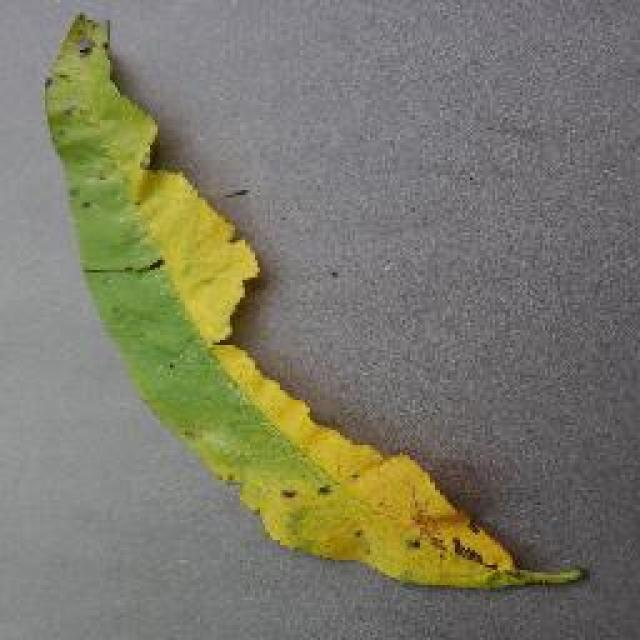Peach_Bacterial_Spot: (42, 25, 250, 302)
